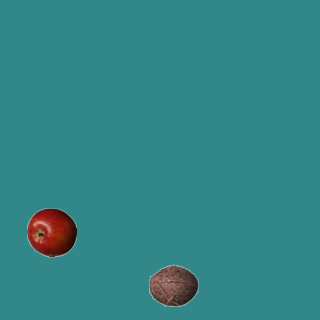Apple Braeburn: (26, 207, 76, 257)
Cocos: (148, 260, 198, 310)
